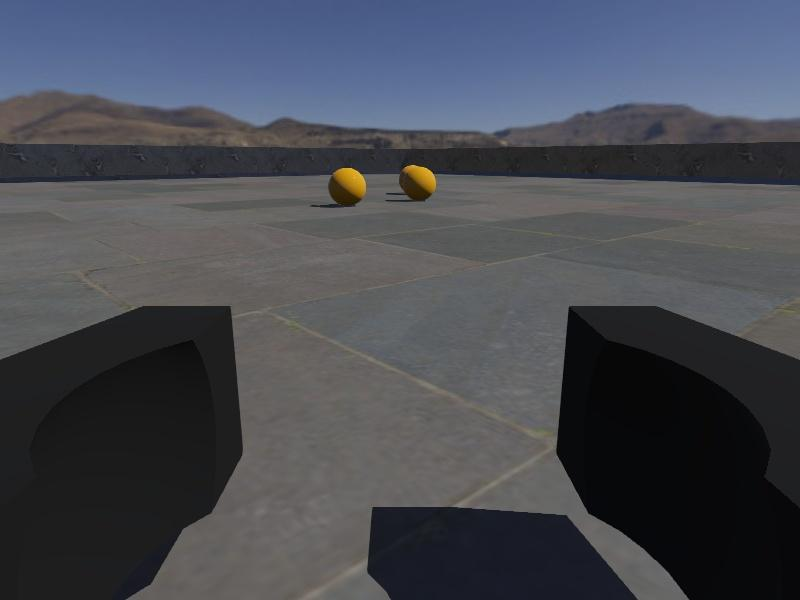orange ball: (326, 166, 368, 208), (402, 165, 437, 203)
